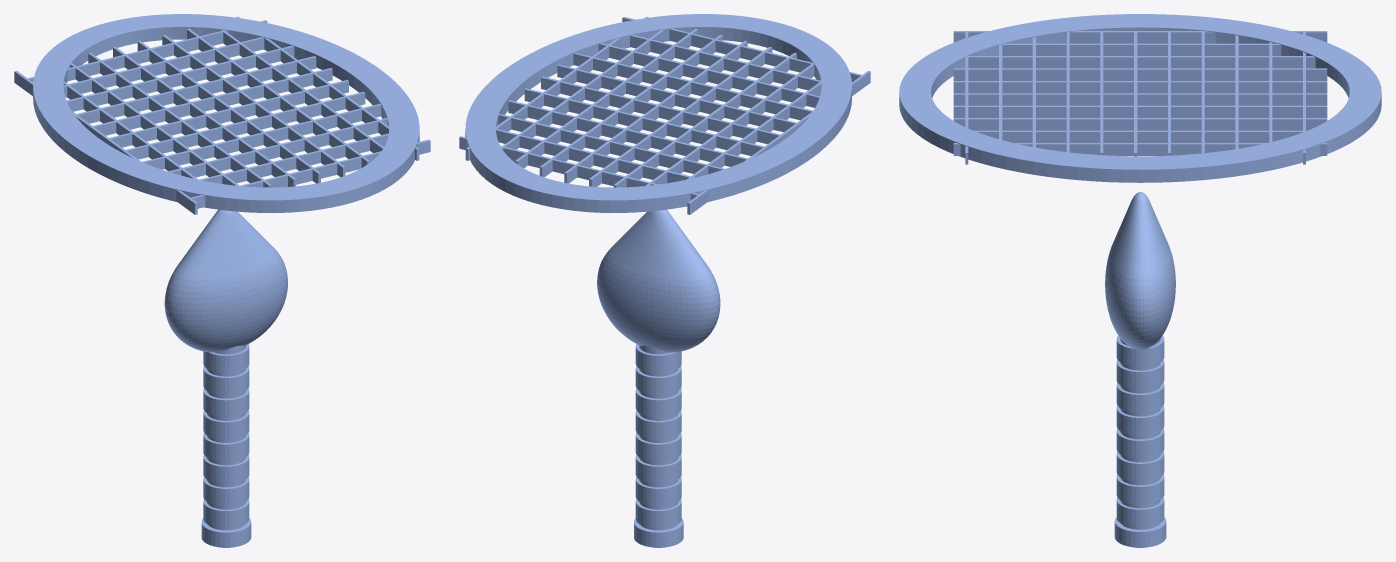
File: tennis-racket-cf301457.glb
The picture shows the model from 3 angles, left to right: view 1: azimuth 30°, elevation 25°; view 2: azimuth 150°, elevation 25°; view 3: azimuth 270°, elevation 25°; orthographic projection. The views are drawn at different scales.
Parts seen in each view (by area): view 1: output; view 2: output; view 3: output.
Part boxes in pixels (x1,y1,x2,y2): output: [14, 14, 430, 547]; output: [459, 14, 870, 547]; output: [899, 14, 1381, 547].
Size of the model in its own units: 1.72 by 2.3 by 2.25.
